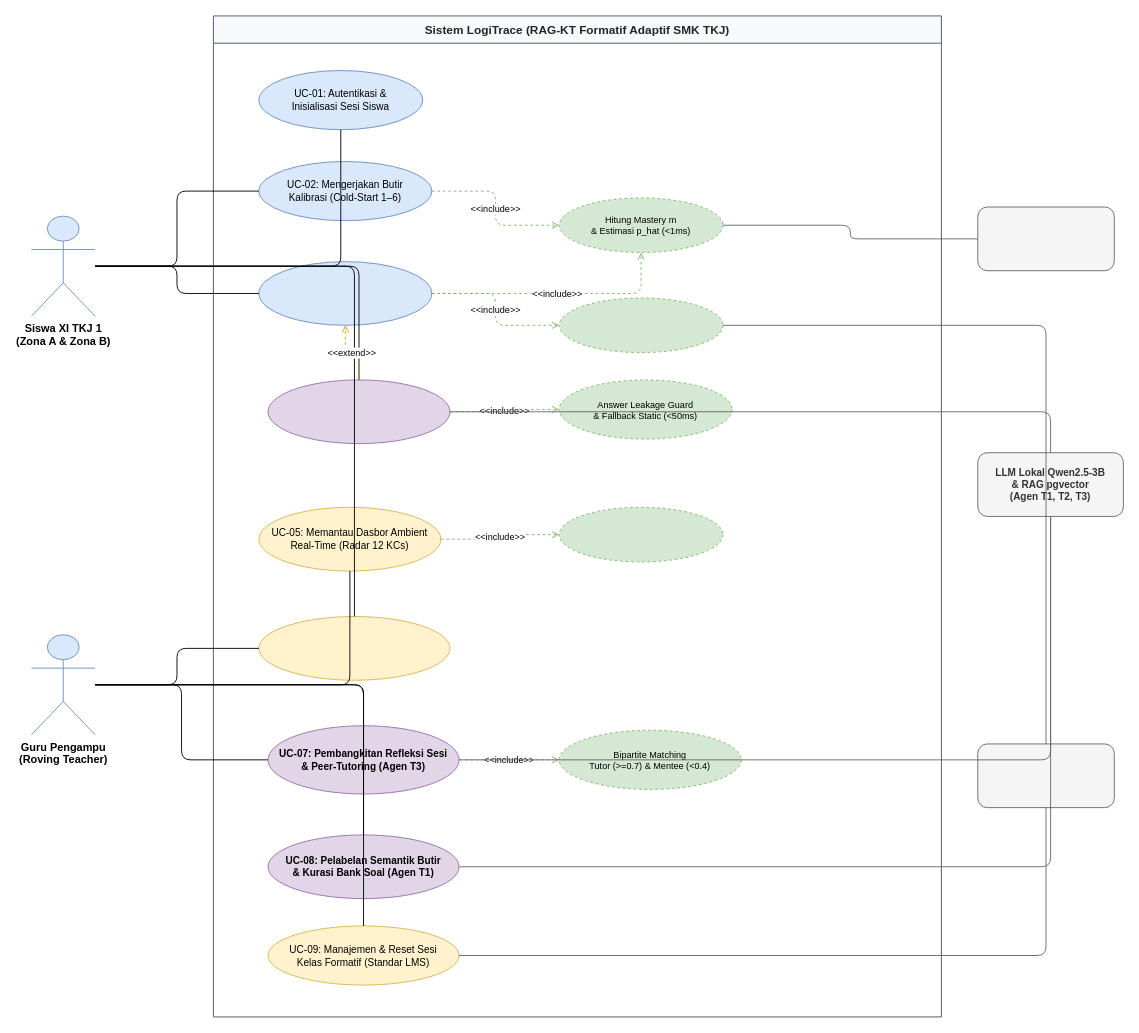
Some shapes in this 1139 by 1033 pixel diagram are drawn without their labels. The shapes that lost their labels are listed below. From the top down, each one's centre as x and y in pixels, then its label:
(1045,238): Deterministic Math Engine L3 (Cognitive Tracing)
(345,293): UC-03: Mengerjakan Butir Adaptif ZPD (Butir 7–20)
(640,325): Append-Only Logging (Audit Trail Interaksi)
(358,411): UC-04: Meminta Bantuan Sokratik (Agen T2 Guiding Hint)
(640,534): Deteksi Otomatis Top-3 Stuck Students
(354,648): UC-06: Melakukan Intervensi Klinis Tatap Muka (Roving Scaffolding)
(1045,775): PostgreSQL / SQLite Append-Only Audit (Interactions Table)
